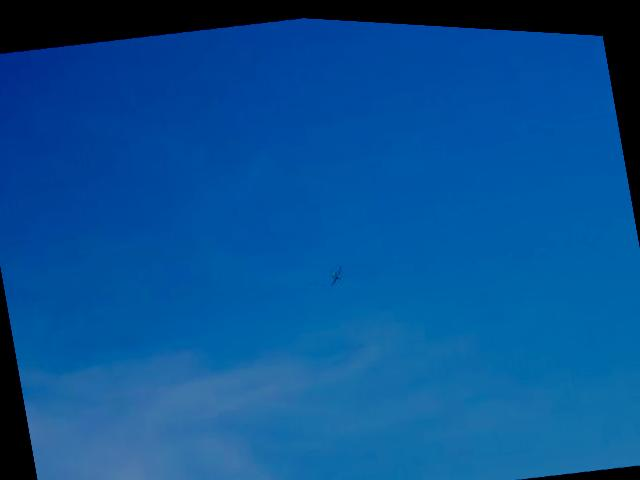uav: (324, 257, 348, 284)
